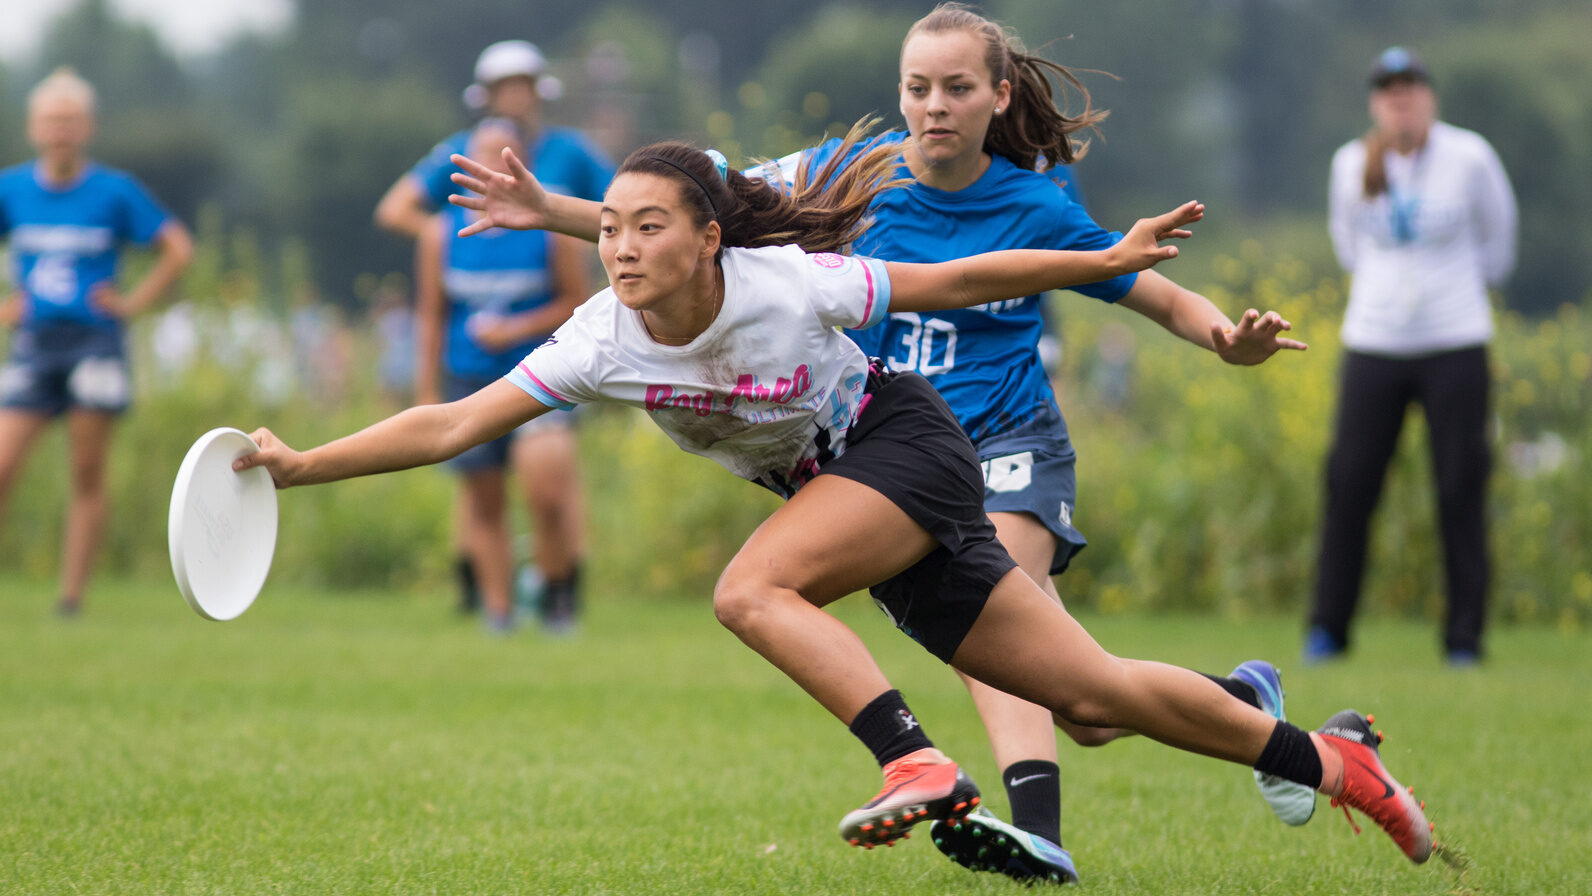disc: (167, 424, 282, 625)
